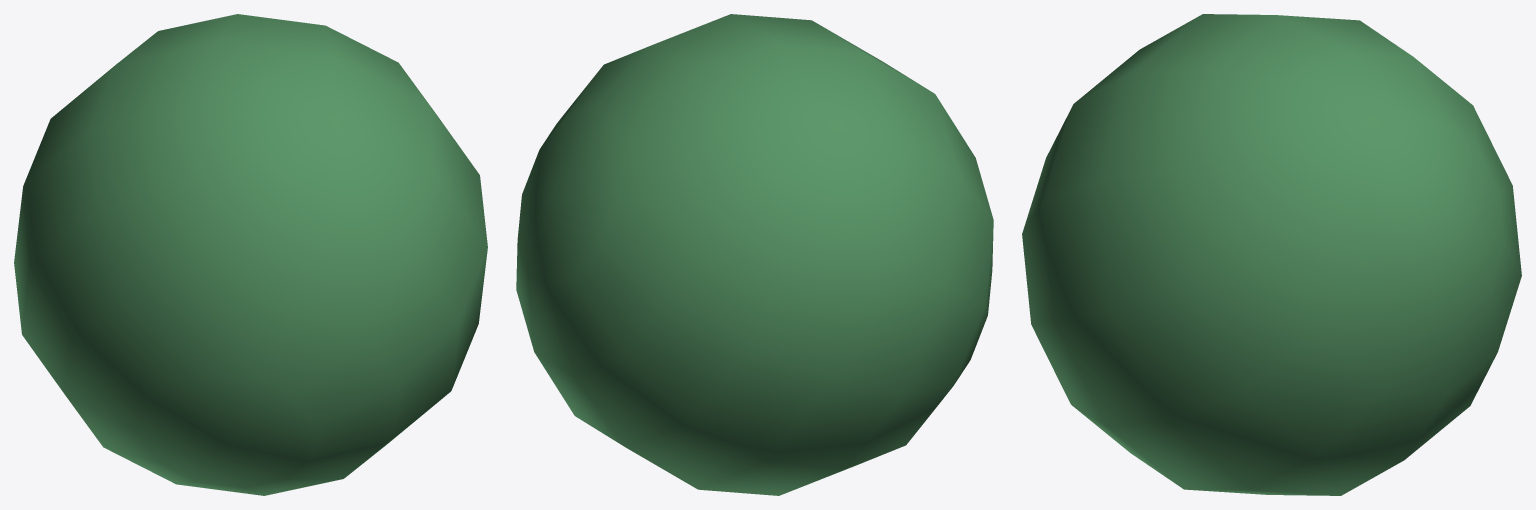
The picture shows the model from 3 angles, left to right: view 1: azimuth 30°, elevation 25°; view 2: azimuth 150°, elevation 25°; view 3: azimuth 270°, elevation 25°; orthographic projection. The views are drawn at different scales.
Parts seen in each view (by area): view 1: 动脉韧带淋巴结; view 2: 动脉韧带淋巴结; view 3: 动脉韧带淋巴结.
Boxes of the visible parts, box(x1,y1,x2,y2) form: 动脉韧带淋巴结: box(14, 14, 487, 495); 动脉韧带淋巴结: box(516, 14, 993, 495); 动脉韧带淋巴结: box(1022, 14, 1521, 495).
Size of the model in its own units: 0.00377 by 0.00379 by 0.00382.
